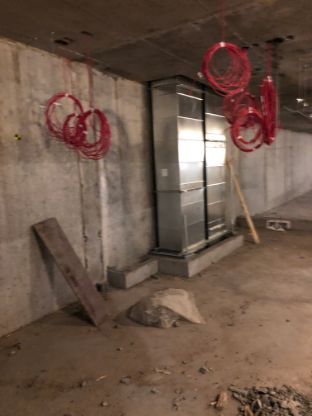Duct: (144, 63, 237, 257)
